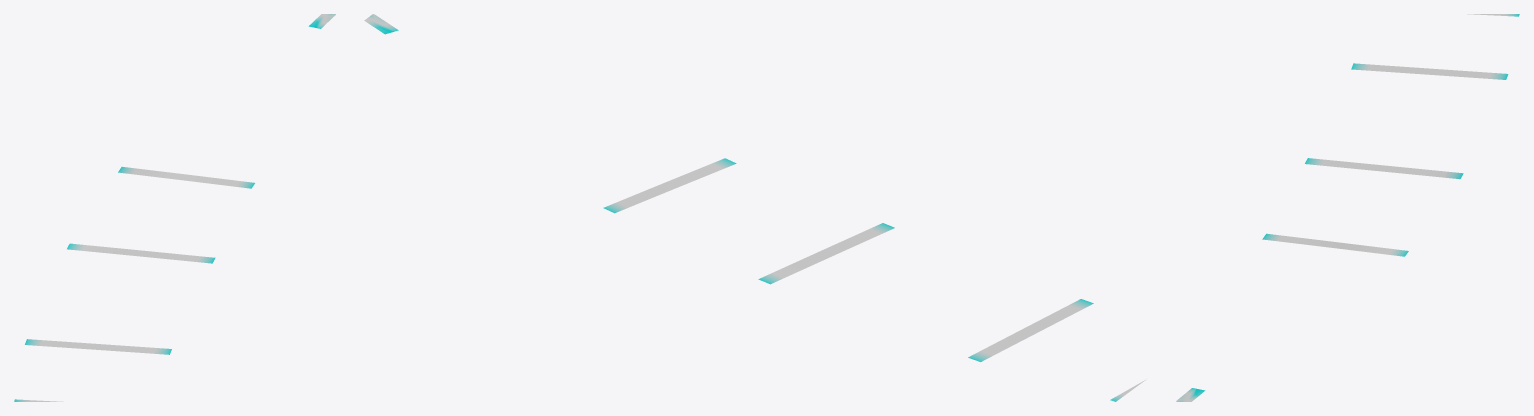
The picture shows the model from 3 angles, left to right: view 1: azimuth 90°, elevation 25°; view 2: azimuth 150°, elevation 25°; view 3: azimuth 270°, elevation 25°; orthographic projection. The views are drawn at different scales.
Visible parts, largest first — view 1: SpaceCenter_Long3_GenerateRoad_Asphalt_PCGMesh_Decal_Mesh_x1; view 2: SpaceCenter_Long3_GenerateRoad_Asphalt_PCGMesh_Decal_Mesh_x1; view 3: SpaceCenter_Long3_GenerateRoad_Asphalt_PCGMesh_Decal_Mesh_x1.
Boxes of the visible parts, <box> form: SpaceCenter_Long3_GenerateRoad_Asphalt_PCGMesh_Decal_Mesh_x1: <box>14,14,335,401</box>; SpaceCenter_Long3_GenerateRoad_Asphalt_PCGMesh_Decal_Mesh_x1: <box>364,14,1146,401</box>; SpaceCenter_Long3_GenerateRoad_Asphalt_PCGMesh_Decal_Mesh_x1: <box>1176,14,1519,401</box>.
Bounding box in the file's own units: 834 × 2304 × 35.46.
